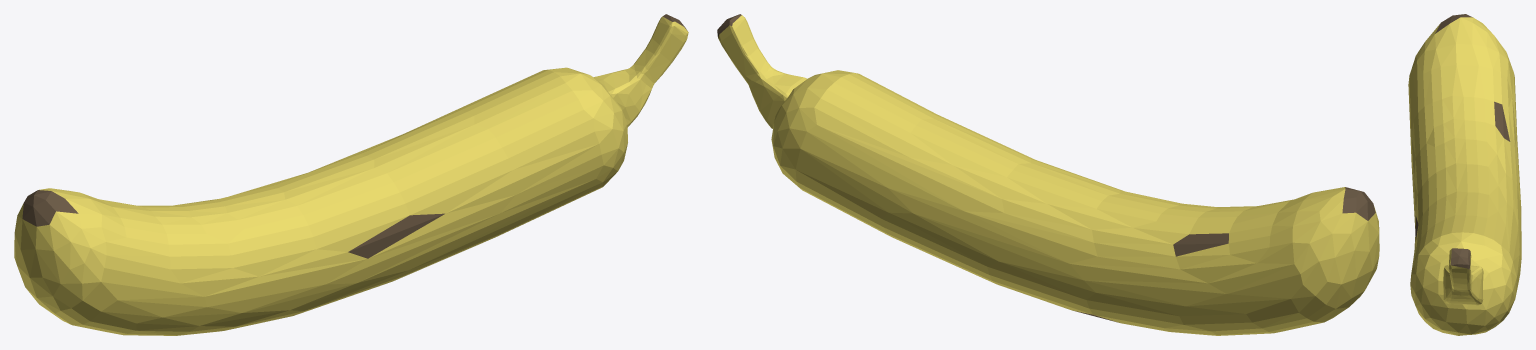
Rendered from Banana.fbx.
3 renders of one model, left to right at view 1: azimuth 30°, elevation 25°; view 2: azimuth 150°, elevation 25°; view 3: azimuth 270°, elevation 25°, orthographic. The views are drawn at different scales.
Parts seen in each view (by area): view 1: Banana; view 2: Banana; view 3: Banana.
Boxes of the visible parts, x1,y1,x2,y2 form: Banana: [14, 14, 688, 335]; Banana: [717, 14, 1379, 335]; Banana: [1408, 14, 1521, 335].
Size of the model in its own units: 1650 by 483 by 296.
